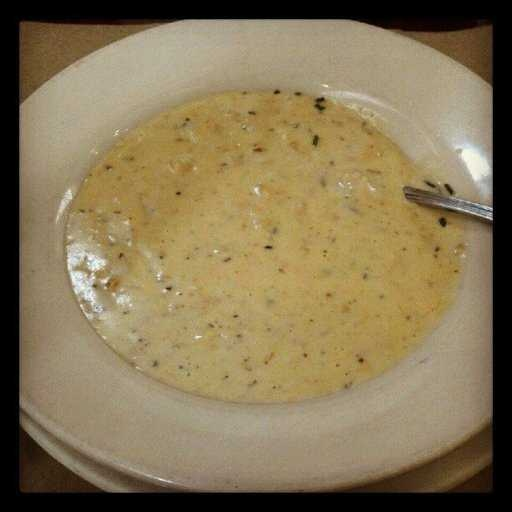soup: (52, 75, 459, 412)
